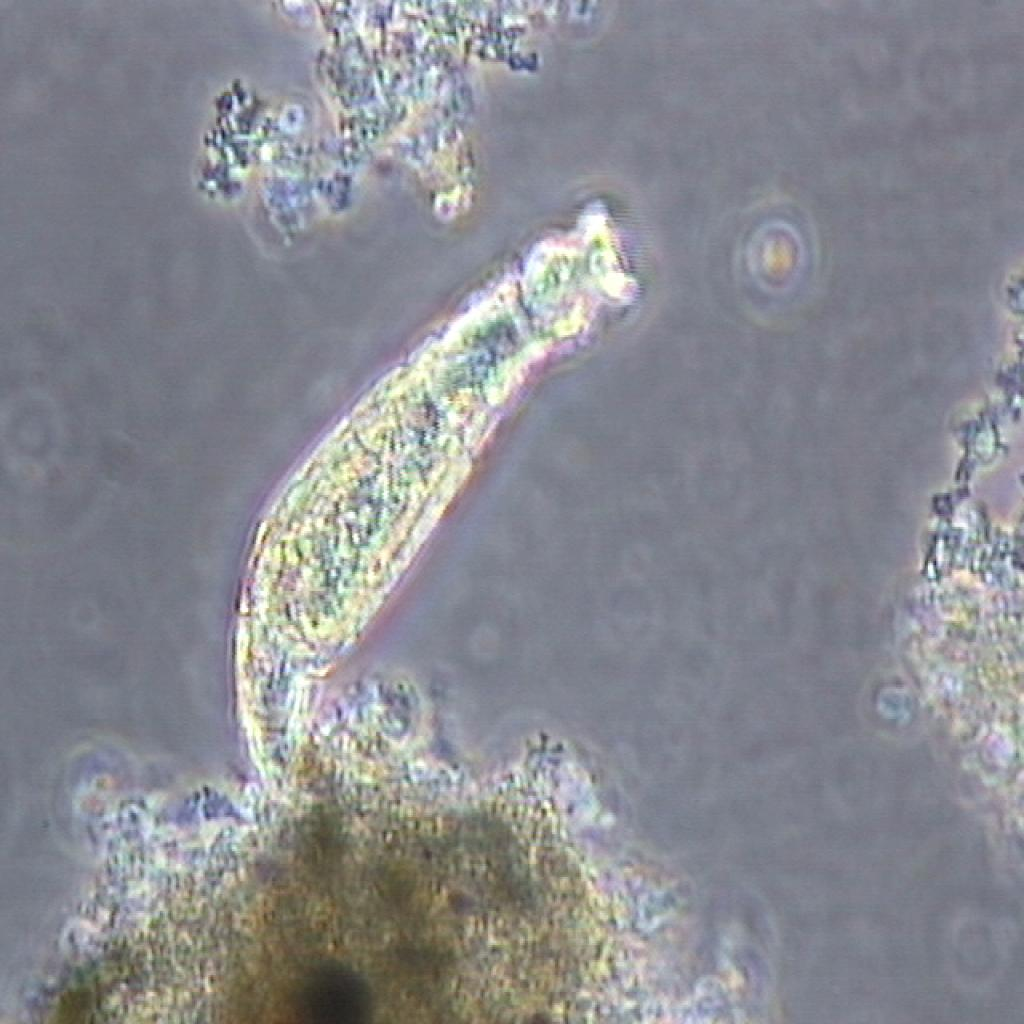Rotatoria: (158, 192, 696, 766)
